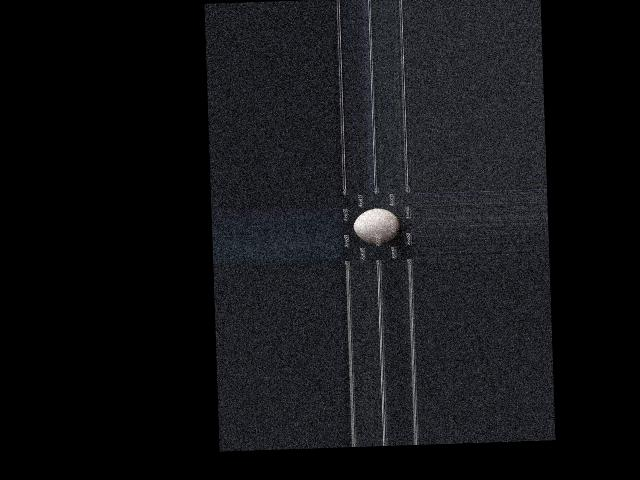egg: (353, 208, 400, 244)
